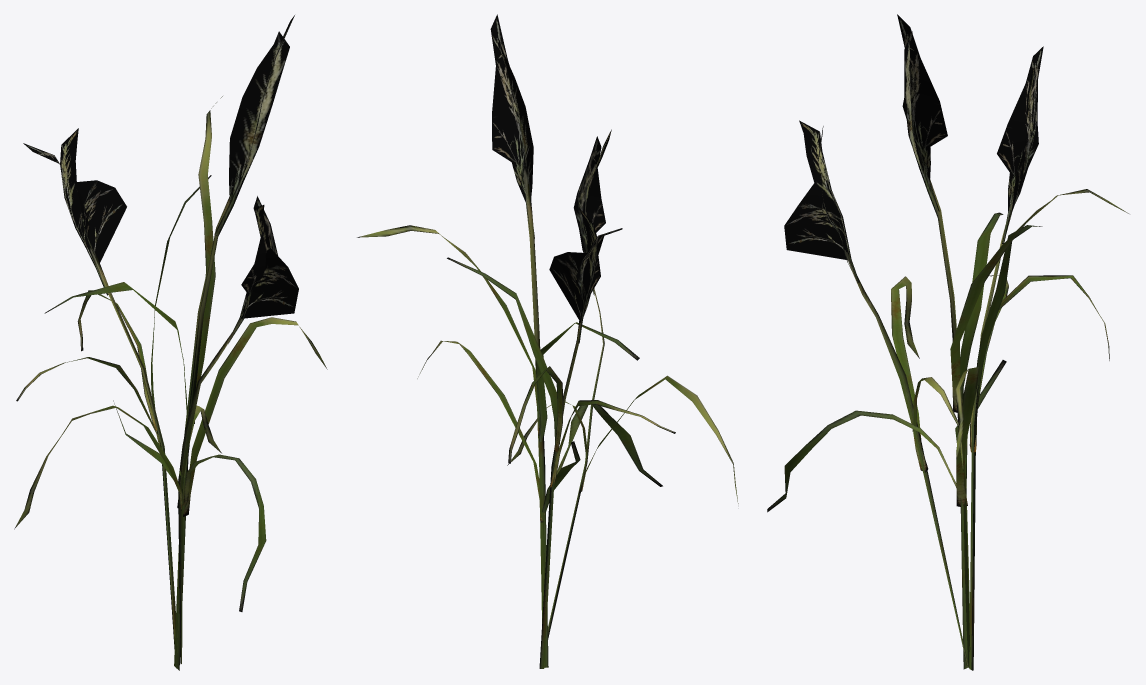
The model's file is grass_2.glb.
3 views of the same model, side by side, from view 1: azimuth 30°, elevation 25°; view 2: azimuth 150°, elevation 25°; view 3: azimuth 270°, elevation 25° (orthographic). The views are drawn at different scales.
Visible parts, largest first — view 1: grass_medium_01_tall_b_LOD0; view 2: grass_medium_01_tall_b_LOD0; view 3: grass_medium_01_tall_b_LOD0.
Boxes of the visible parts, x1,y1,x2,y2 form: grass_medium_01_tall_b_LOD0: (14,15,327,670); grass_medium_01_tall_b_LOD0: (357,14,738,668); grass_medium_01_tall_b_LOD0: (767,14,1128,670).
Bounding box in the file's own units: 0.1499 × 0.2857 × 0.1348.
Materials: 1 (1 with a texture image).
